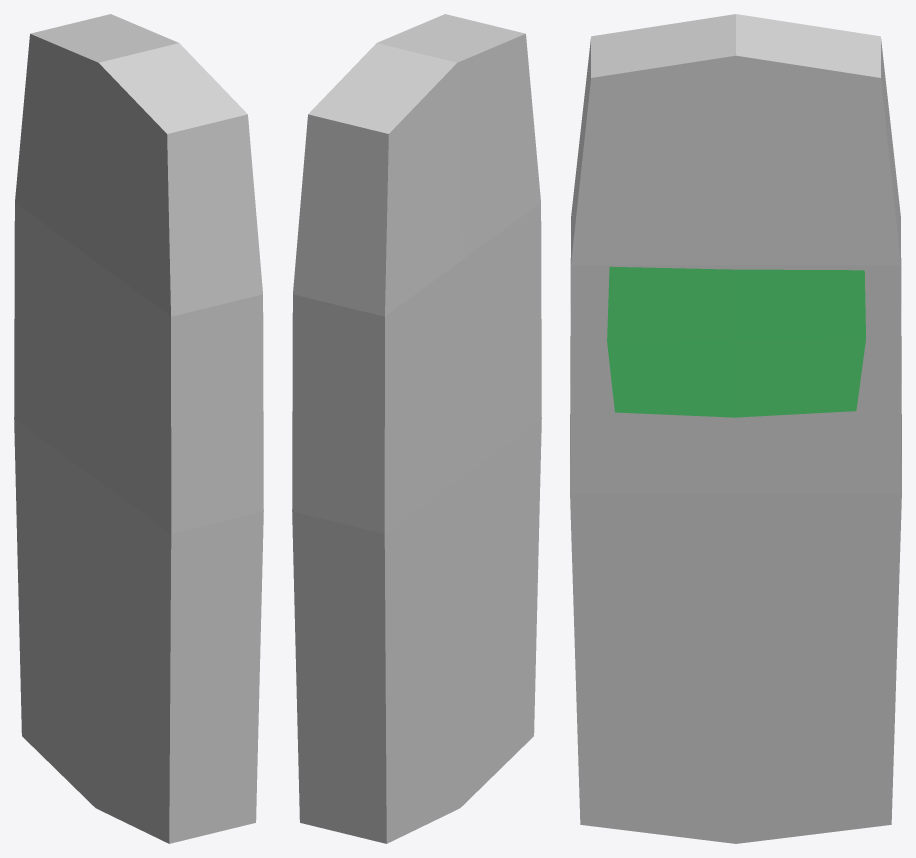
The model's file is nokia3310_pantalla.fbx.
3 renders of one model, left to right at view 1: azimuth 30°, elevation 25°; view 2: azimuth 150°, elevation 25°; view 3: azimuth 270°, elevation 25°, orthographic. The views are drawn at different scales.
Parts seen in each view (by area): view 1: Cube; view 2: Cube; view 3: Cube, Pantalla.
Boxes of the visible parts, box(x1,y1,x2,y2) form: Cube: box(14, 14, 263, 843); Cube: box(292, 14, 541, 843); Cube: box(570, 14, 901, 843); Pantalla: box(607, 266, 865, 417).
Size of the model in its own units: 64.67 by 485 by 186.
